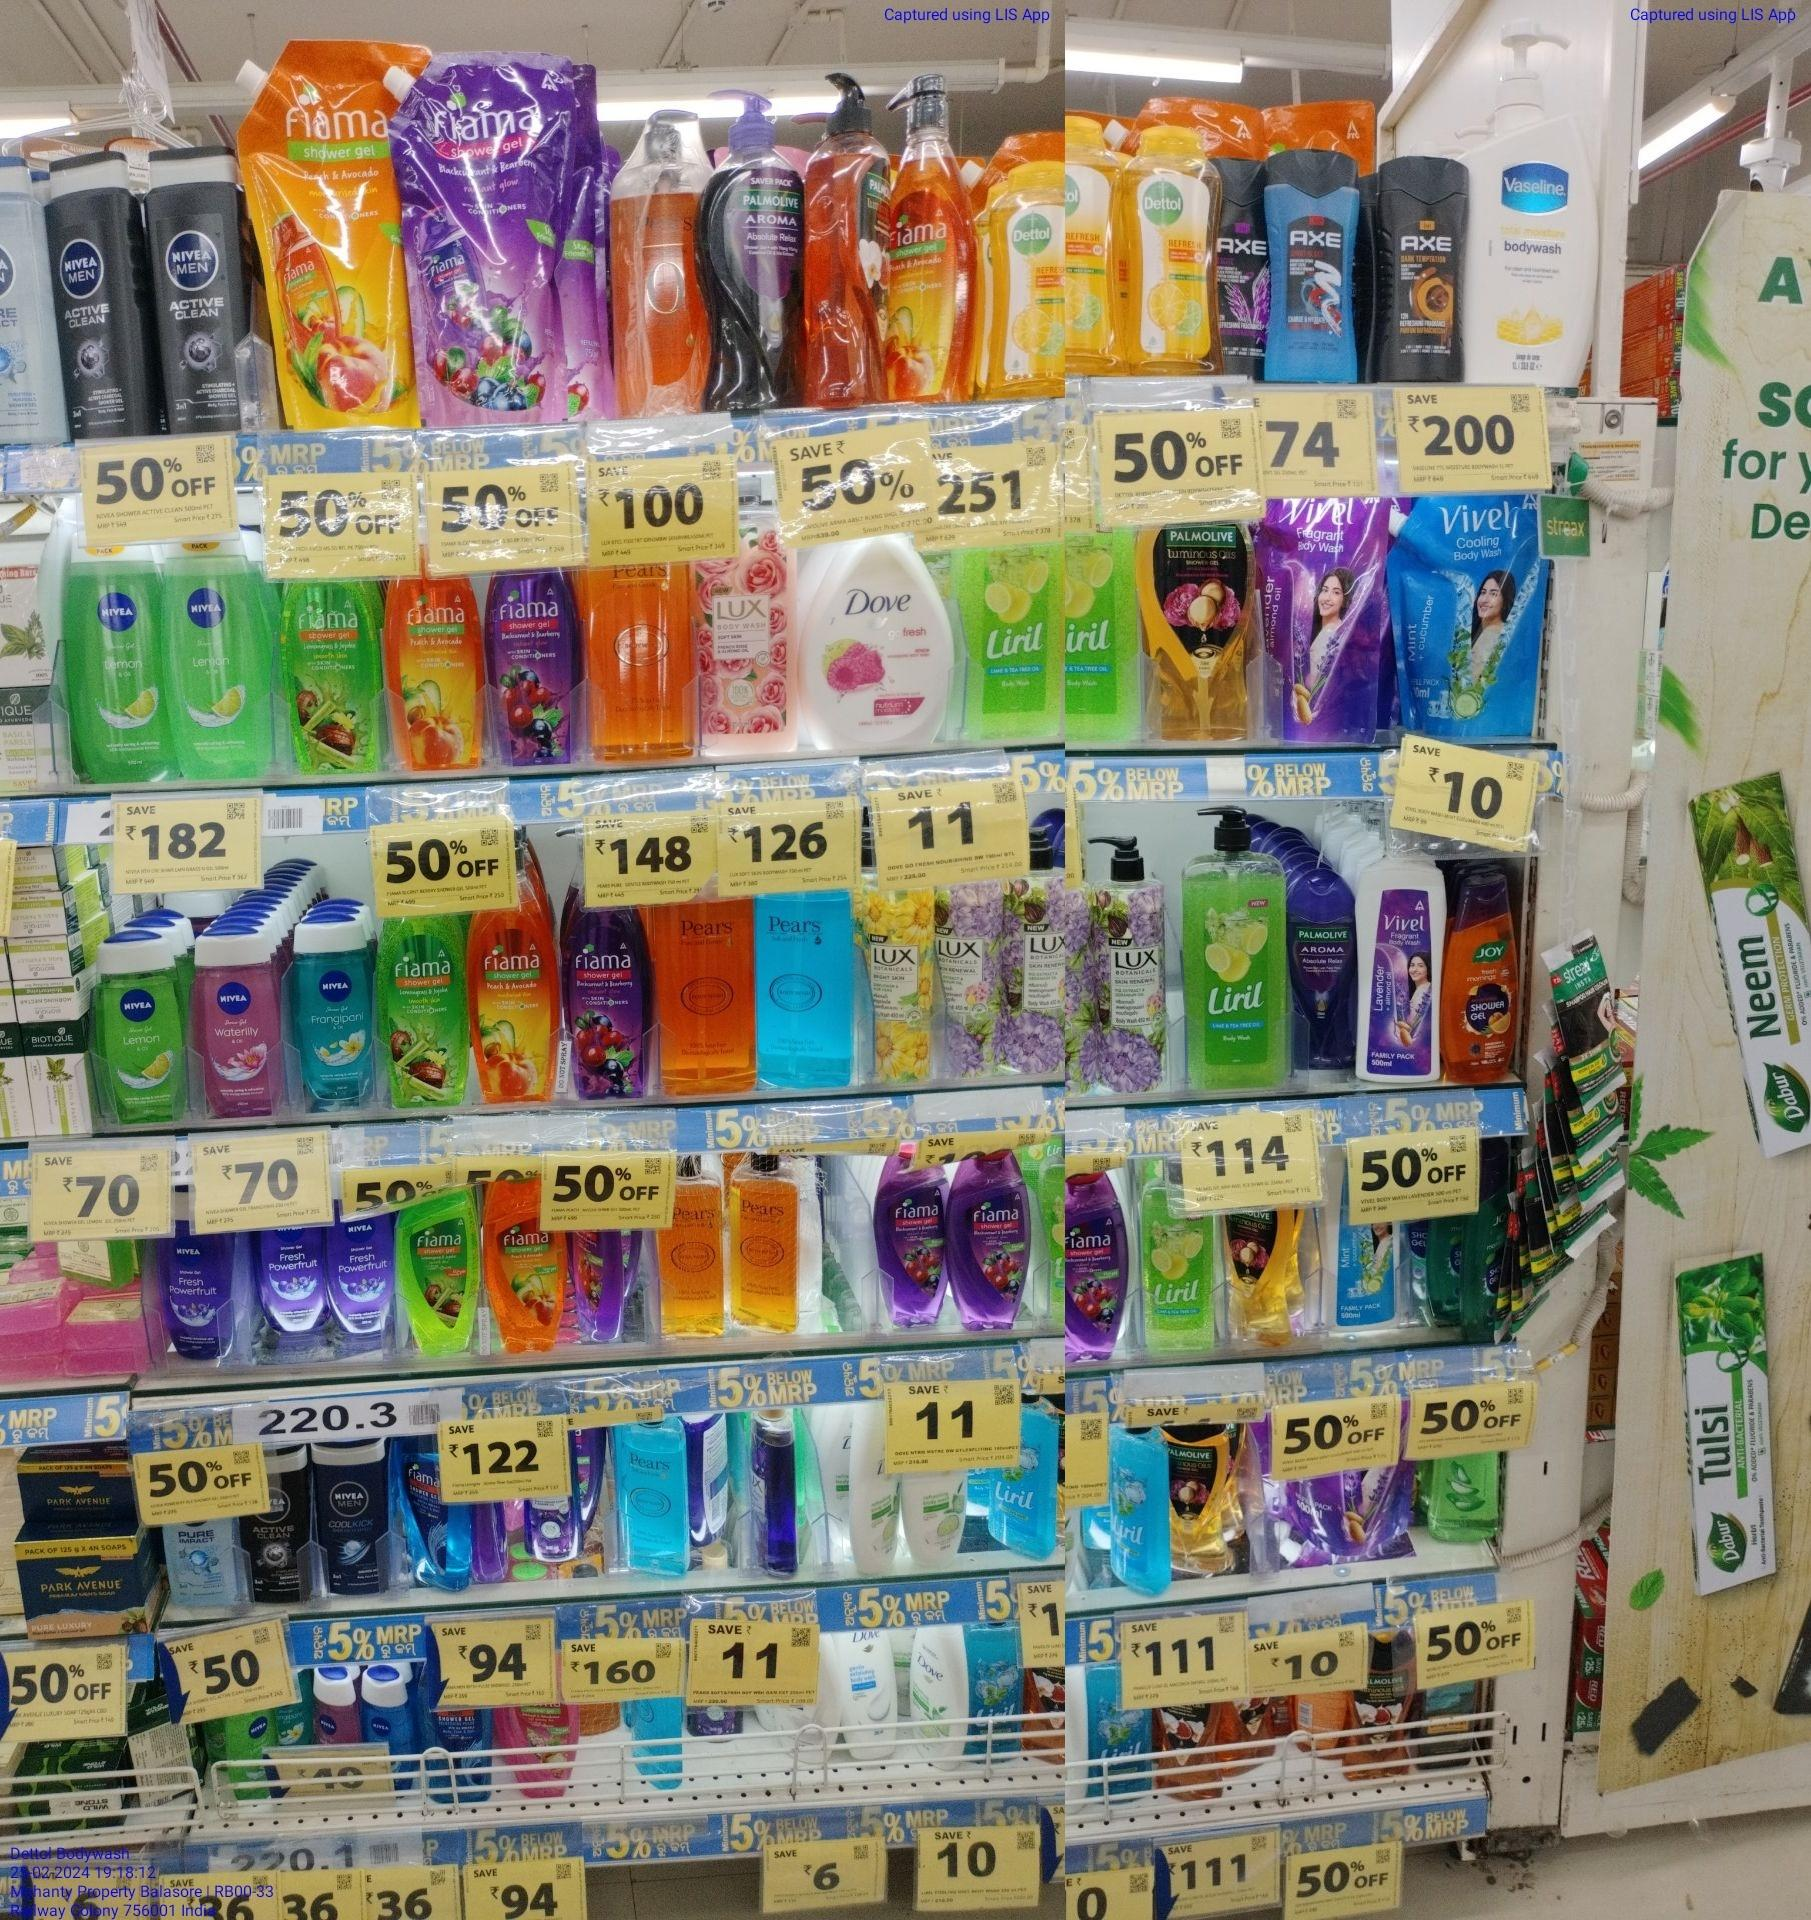Dettol_Bodywash_Refresh: (1130, 124, 1222, 364)
Dove_Gentle_Exfoliating_Body_Wash_250ML: (836, 1631, 895, 1757)
Dove_Refreshing_Body_Wash_250ML: (851, 1406, 905, 1573), (912, 1626, 967, 1769), (907, 1472, 965, 1566)
Fiama_Shower_Gel_Lemongrass_and_Jojoba_250ML: (281, 580, 381, 771), (400, 1186, 480, 1355)
Fiama_Shower_Gel_Patchouli_and_Macadamia_250ML: (488, 1174, 563, 1353)
Fiama_Shower_Gel_Peach_and_Avocado_250ML: (390, 579, 480, 769)
Liril_Cooling_Mint_Body_Wash_250ML: (987, 1394, 1055, 1556), (1108, 1423, 1169, 1598), (1086, 1661, 1152, 1803), (970, 1620, 1028, 1763)
Liril_Lime_and_Tea_Tree_Oil_Body_Wash_250ML: (1140, 1159, 1210, 1350)
Nivea_Shower_Gel_Frangipani_and_Oil_250ML: (296, 919, 371, 1110)
Nivea_Shower_Gel_Lemon_and_Oil_250ML: (163, 543, 260, 778), (68, 548, 160, 783), (94, 936, 179, 1125)
Nivea_Shower_Gel_Waterlily_and_Oil_250ML: (192, 934, 279, 1113)
Palmolive_Luminous_Oils_Invigorating_Macadamia_Oil_With_Peony_250ML: (1145, 526, 1253, 740), (1220, 1210, 1295, 1348)
Pears_Pure_Glycerin_and_Mint_Extracts_Body_Wash_250ML: (618, 1420, 686, 1571)
